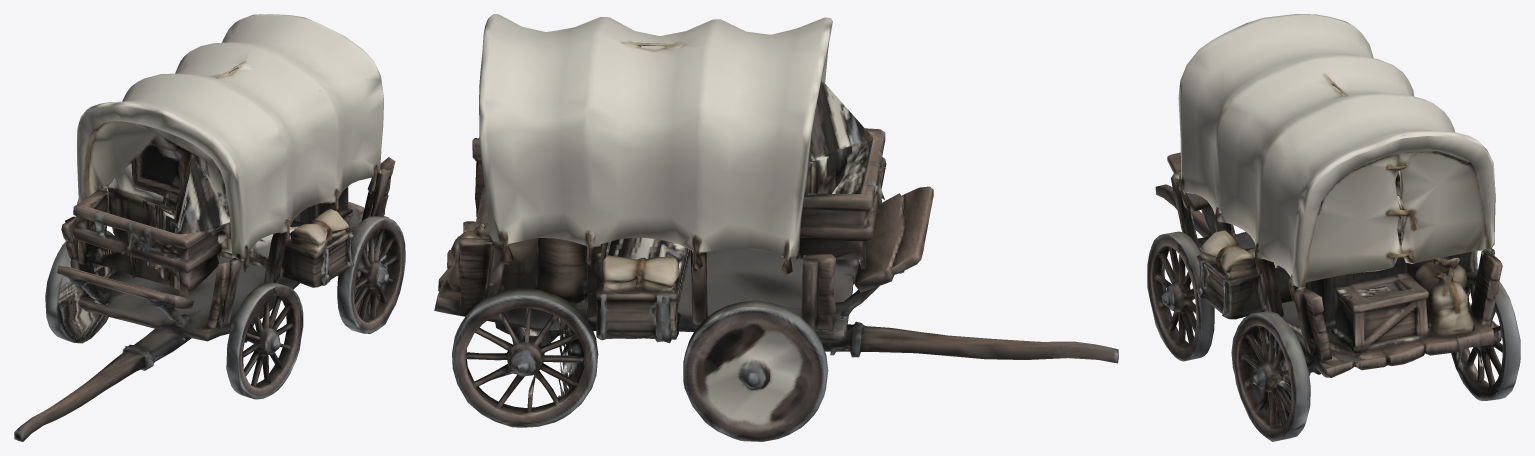
3 renders of one model, left to right at view 1: azimuth 30°, elevation 25°; view 2: azimuth 150°, elevation 25°; view 3: azimuth 270°, elevation 25°, orthographic. The views are drawn at different scales.
Parts seen in each view (by area): view 1: repaired; view 2: repaired; view 3: repaired.
Boxes of the visible parts, bbox=[...] form: repaired: bbox=[14, 14, 405, 441]; repaired: bbox=[434, 14, 1118, 441]; repaired: bbox=[1147, 14, 1520, 441].
Size of the model in its own units: 0.9993 by 0.5821 by 0.6533.
Materials: 1 (1 with a texture image).
